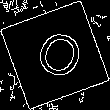O_SW: (25, 23, 85, 87)
